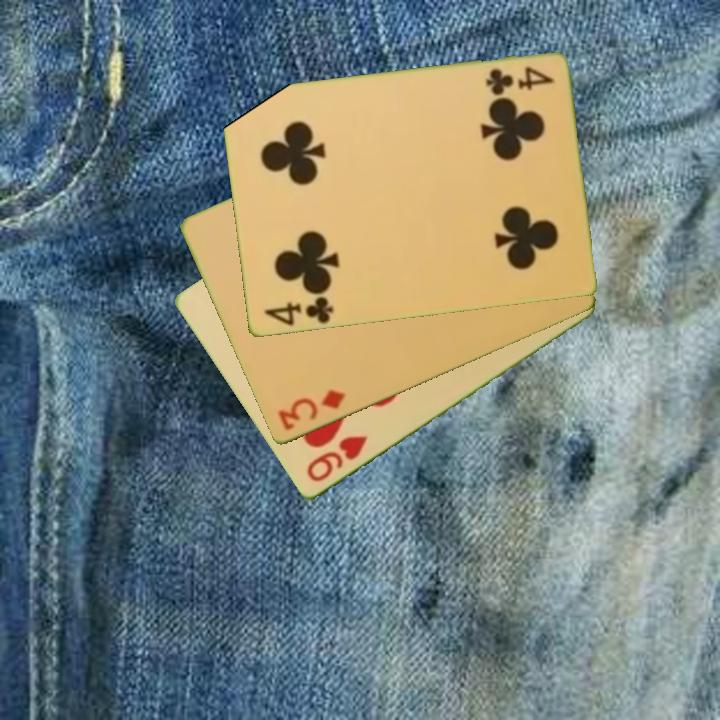3d: (273, 386, 349, 434)
4c: (260, 293, 336, 329), (482, 63, 556, 97)
9h: (302, 432, 371, 486)
